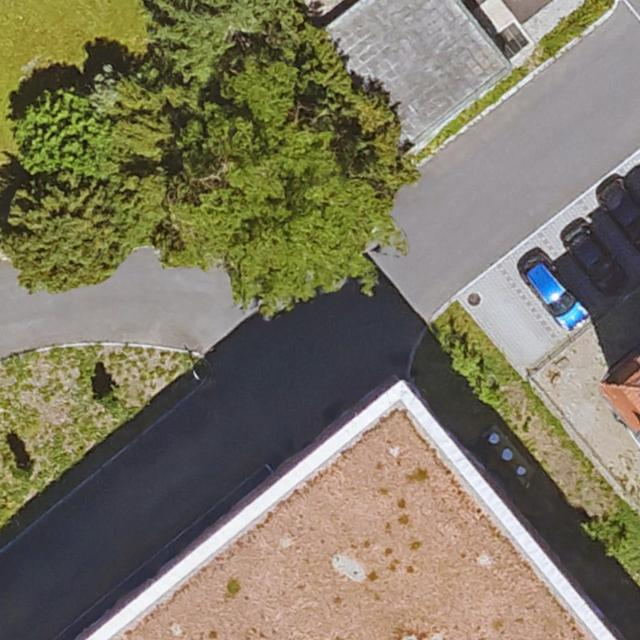tree: (162, 26, 403, 311), (6, 174, 143, 289), (146, 0, 309, 73), (10, 79, 112, 178)
